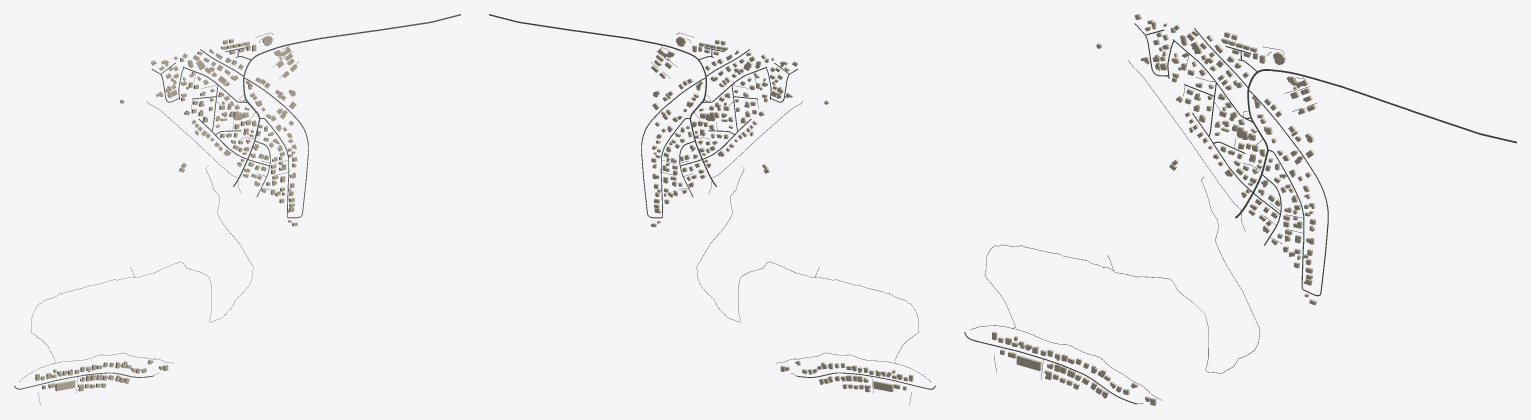
File: historic-palestine-13_34_3549_3283.glb
3 views of the same model, side by side, from view 1: azimuth 30°, elevation 25°; view 2: azimuth 150°, elevation 25°; view 3: azimuth 330°, elevation 25° (orthographic). The views are drawn at different scales.
Visible parts, largest first — view 1: Road נוף הארבל; view 2: Road נוף הארבל; view 3: Road נוף הארבל.
Boxes of the visible parts, <box> form: Road נוף הארבל: <box>233,14,460,186</box>; Road נוף הארבל: <box>489,14,716,186</box>; Road נוף הארבל: <box>1235,69,1516,218</box>.
Bounding box in the file's own units: 1644 × 1124 × 8.7.
